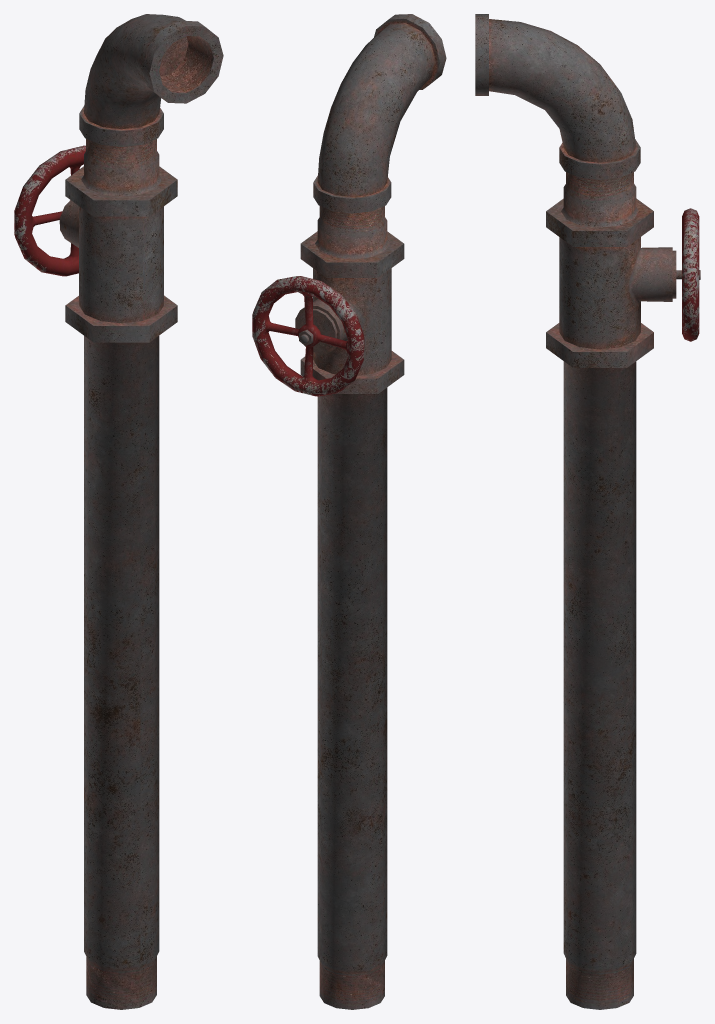
File: tuberia.glb
3 views of the same model, side by side, from view 1: azimuth 30°, elevation 25°; view 2: azimuth 150°, elevation 25°; view 3: azimuth 270°, elevation 25° (orthographic). The views are drawn at different scales.
Visible parts, largest first — view 1: Object_2; view 2: Object_2; view 3: Object_2.
Part boxes in pixels (x1,y1,x2,y2): Object_2: [14, 14, 223, 1009]; Object_2: [252, 14, 446, 1009]; Object_2: [475, 14, 700, 1009].
Size of the model in its own units: 3.65 by 29.74 by 6.22.
1 material, 1 textured.
